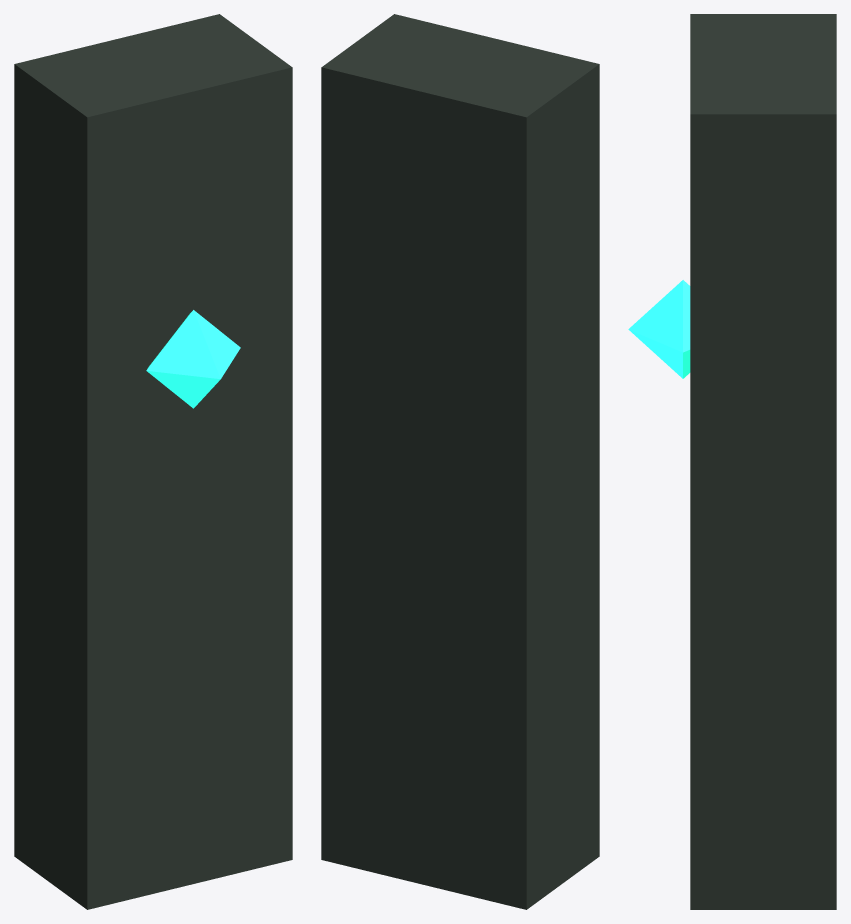
File: standing_stone.glb
The picture shows the model from 3 angles, left to right: view 1: azimuth 30°, elevation 25°; view 2: azimuth 150°, elevation 25°; view 3: azimuth 270°, elevation 25°; orthographic projection.
Bounding box in the file's own units: 0.65 × 2.4 × 0.57.
